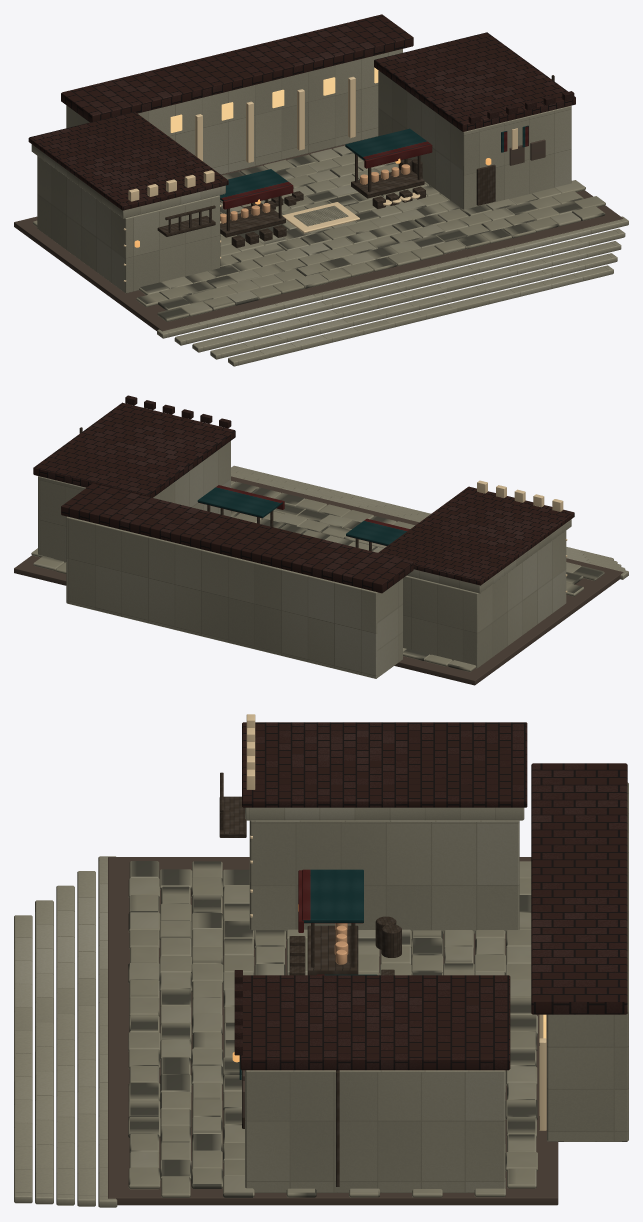
File: hd2d_market_plaza.glb
The picture shows the model from 3 angles, top to bottom: view 1: azimuth 30°, elevation 25°; view 2: azimuth 150°, elevation 25°; view 3: azimuth 270°, elevation 25°; orthographic projection. The views are drawn at different scales.
Parts seen in each view (by area): view 1: hd2d_market_plaza_cobblestone_floor, hd2d_market_back_limestone_arcade, hd2d_market_back_long_roof, hd2d_market_left_limestone_block, hd2d_market_right_limestone_shop, hd2d_market_right_roof_tiles, hd2d_market_left_flat_warm_roof, hd2d_market_plaza_underfloor_shadow_base, hd2d_market_plaza_front_step_1, hd2d_market_plaza_front_step_2, hd2d_market_plaza_front_step_3, hd2d_market_plaza_front_step_4 (+12 smaller); view 2: hd2d_market_back_limestone_arcade, hd2d_market_back_long_roof, hd2d_market_left_limestone_block, hd2d_market_right_roof_tiles, hd2d_market_left_flat_warm_roof, hd2d_market_plaza_cobblestone_floor, hd2d_market_plaza_underfloor_shadow_base, hd2d_market_right_limestone_shop, hd2d_market_right_goods_stall_awning_cloth, hd2d_market_left_upper_parapet, hd2d_market_left_food_stall_awning_cloth, hd2d_market_plaza_front_step_0 (+4 smaller); view 3: hd2d_market_plaza_cobblestone_floor, hd2d_market_right_limestone_shop, hd2d_market_left_limestone_block, hd2d_market_right_roof_tiles, hd2d_market_back_long_roof, hd2d_market_left_flat_warm_roof, hd2d_market_plaza_underfloor_shadow_base, hd2d_market_back_limestone_arcade, hd2d_market_plaza_front_step_1, hd2d_market_plaza_front_step_2, hd2d_market_plaza_front_step_3, hd2d_market_plaza_front_step_4 (+6 smaller).
Part boxes in pixels (x1,y1,x2,y2): hd2d_market_plaza_cobblestone_floor: [33, 145, 605, 321]; hd2d_market_back_limestone_arcade: [66, 49, 402, 174]; hd2d_market_back_long_roof: [61, 14, 413, 122]; hd2d_market_left_limestone_block: [37, 156, 220, 293]; hd2d_market_right_limestone_shop: [378, 70, 571, 209]; hd2d_market_right_roof_tiles: [374, 32, 575, 131]; hd2d_market_left_flat_warm_roof: [28, 111, 228, 210]; hd2d_market_plaza_underfloor_shadow_base: [14, 144, 623, 331]; hd2d_market_plaza_front_step_1: [174, 228, 625, 345]; hd2d_market_plaza_front_step_2: [192, 241, 621, 352]; hd2d_market_plaza_front_step_3: [210, 253, 617, 359]; hd2d_market_plaza_front_step_4: [228, 265, 613, 366]; hd2d_market_back_limestone_arcade: [66, 516, 402, 678]; hd2d_market_back_long_roof: [61, 483, 413, 593]; hd2d_market_left_limestone_block: [403, 531, 566, 668]; hd2d_market_right_roof_tiles: [33, 402, 235, 497]; hd2d_market_left_flat_warm_roof: [378, 486, 574, 585]; hd2d_market_plaza_cobblestone_floor: [31, 481, 604, 671]; hd2d_market_plaza_underfloor_shadow_base: [14, 476, 623, 685]; hd2d_market_right_limestone_shop: [38, 441, 230, 562]; hd2d_market_right_goods_stall_awning_cloth: [197, 485, 282, 518]; hd2d_market_left_upper_parapet: [406, 519, 571, 593]; hd2d_market_left_food_stall_awning_cloth: [346, 519, 409, 545]; hd2d_market_plaza_front_step_0: [231, 474, 628, 579]; hd2d_market_plaza_cobblestone_floor: [128, 861, 537, 1197]; hd2d_market_right_limestone_shop: [245, 1070, 505, 1192]; hd2d_market_left_limestone_block: [249, 820, 519, 933]; hd2d_market_right_roof_tiles: [240, 975, 510, 1070]; hd2d_market_back_long_roof: [531, 763, 627, 1014]; hd2d_market_left_flat_warm_roof: [242, 722, 527, 807]; hd2d_market_plaza_underfloor_shadow_base: [108, 857, 558, 1205]; hd2d_market_back_limestone_arcade: [547, 782, 628, 1141]; hd2d_market_plaza_front_step_1: [77, 871, 95, 1206]; hd2d_market_plaza_front_step_2: [56, 885, 74, 1205]; hd2d_market_plaza_front_step_3: [35, 900, 53, 1204]; hd2d_market_plaza_front_step_4: [14, 915, 32, 1203].
Bounding box in the file's own units: 17.53 × 4.45 × 13.11.
Materials: 10 (5 with a texture image).
